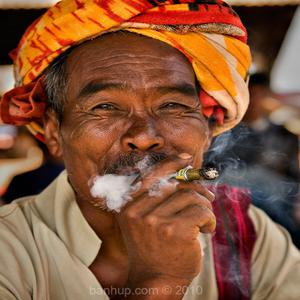cigarette: (162, 168, 221, 181)
